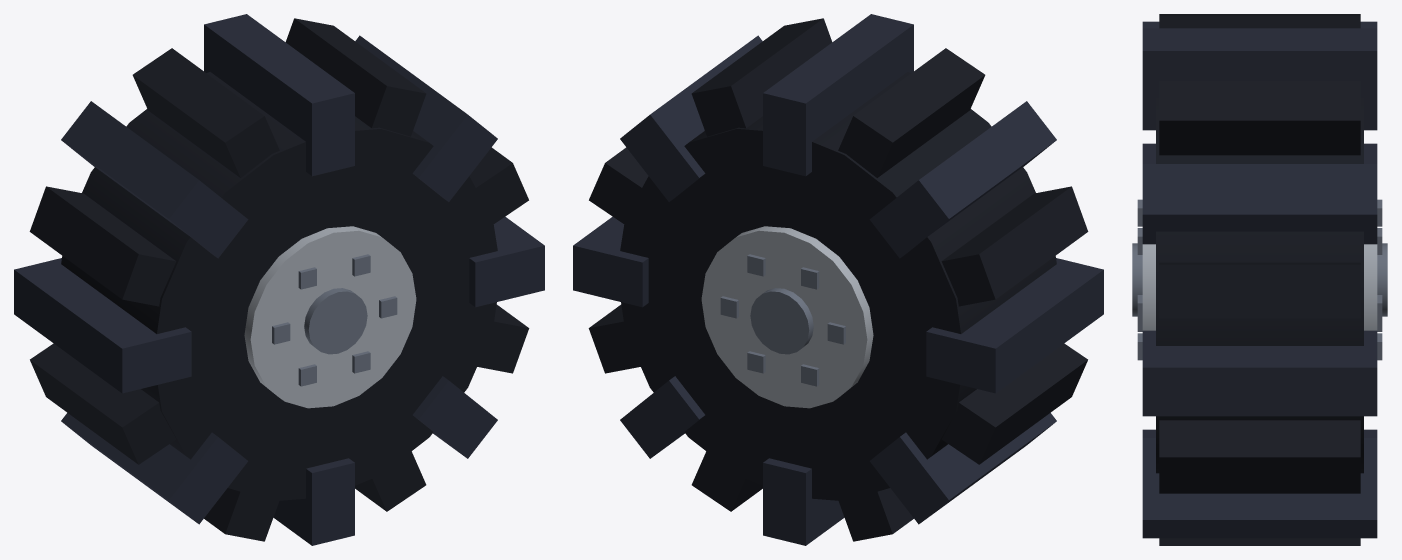
The model's file is tire.glb.
The picture shows the model from 3 angles, left to right: view 1: azimuth 30°, elevation 25°; view 2: azimuth 150°, elevation 25°; view 3: azimuth 270°, elevation 25°; orthographic projection. The views are drawn at different scales.
Size of the model in its own units: 1.58 by 1.58 by 0.76.
